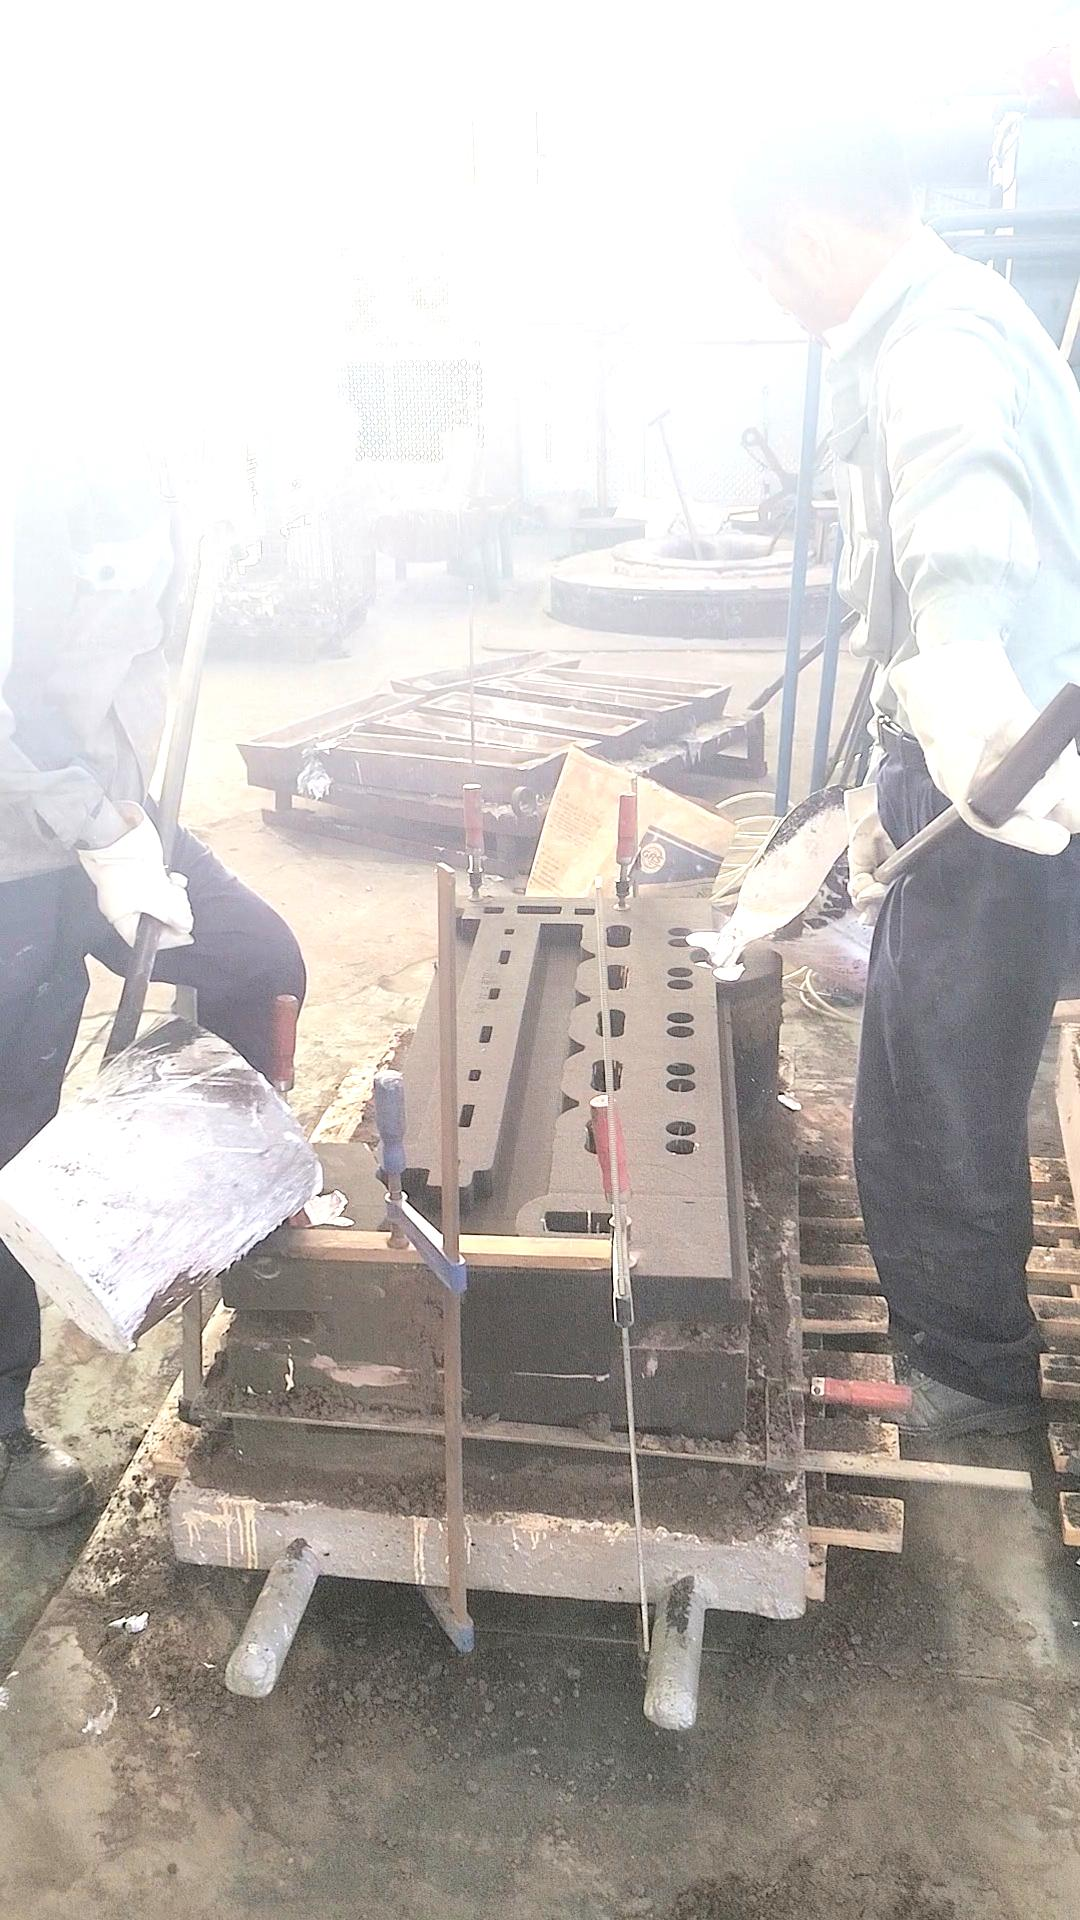pouring hole: (269, 1185, 347, 1228), (688, 945, 746, 969)
